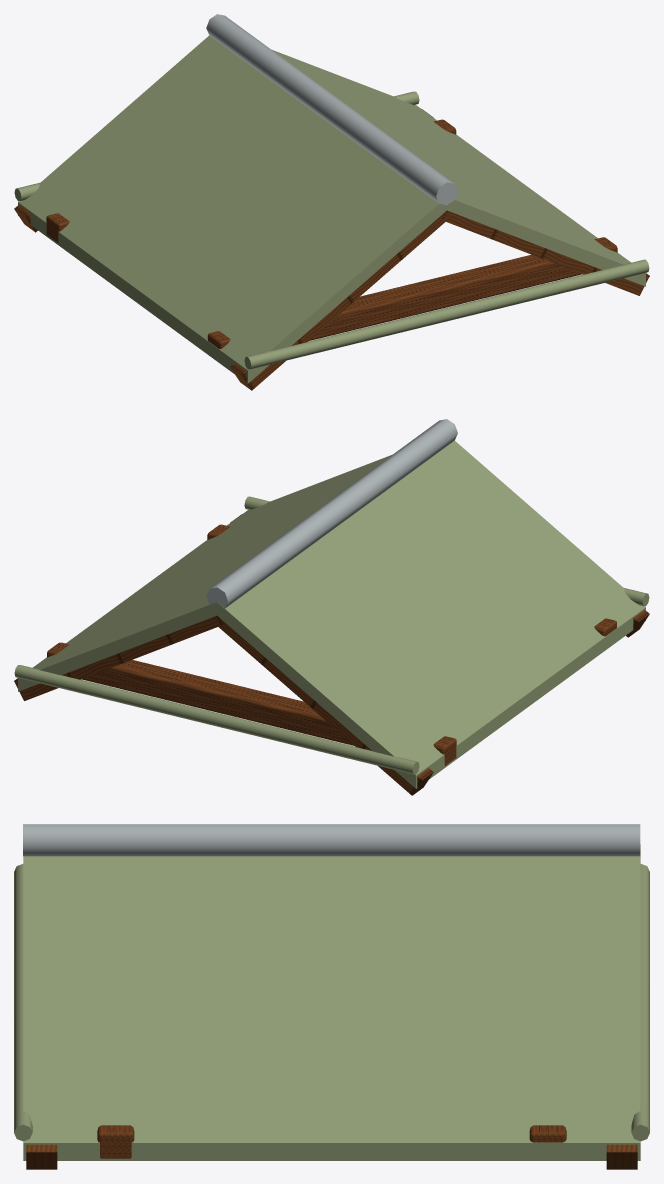
File: modular-survival-base-builder-roof-canvas-fly-f40d4973__24188.glb
The picture shows the model from 3 angles, top to bottom: view 1: azimuth 30°, elevation 25°; view 2: azimuth 150°, elevation 25°; view 3: azimuth 270°, elevation 25°; orthographic projection. The views are drawn at different scales.
Visible parts, largest first — view 1: roof-canvas-fly; view 2: roof-canvas-fly; view 3: roof-canvas-fly.
Boxes of the visible parts, bbox=[...] form: roof-canvas-fly: bbox=[14, 14, 649, 390]; roof-canvas-fly: bbox=[14, 419, 649, 795]; roof-canvas-fly: bbox=[14, 824, 649, 1169].
Size of the model in its own units: 2.05 by 0.7779 by 2.06.
3 materials, 1 textured.
